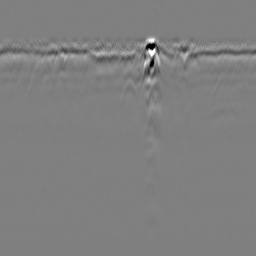cavity: (117, 74, 139, 110)
